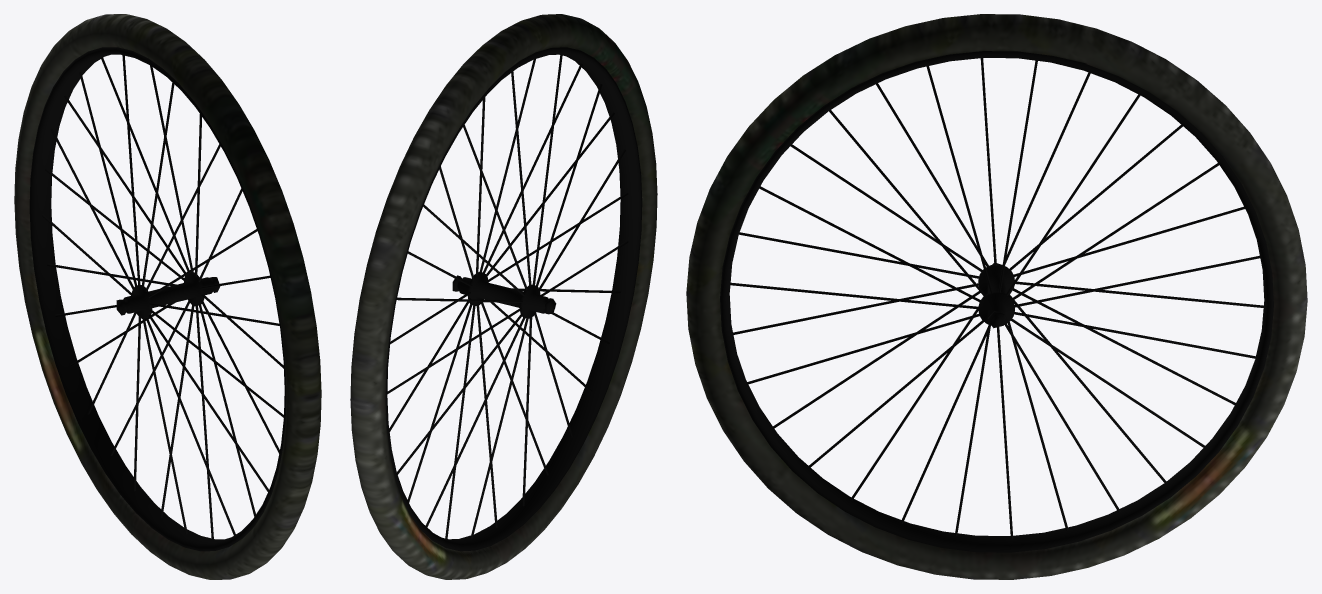
File: rueda.obj
3 views of the same model, side by side, from view 1: azimuth 30°, elevation 25°; view 2: azimuth 150°, elevation 25°; view 3: azimuth 270°, elevation 25° (orthographic). The views are drawn at different scales.
Visible parts, largest first — view 1: reuda; view 2: reuda; view 3: reuda.
Part boxes in pixels (bbox=[...]): reuda: bbox=[14, 14, 321, 579]; reuda: bbox=[350, 14, 657, 579]; reuda: bbox=[686, 14, 1307, 579].
Size of the model in its own units: 12.72 by 64.59 by 64.66.
Materials: 1 (1 with a texture image).
